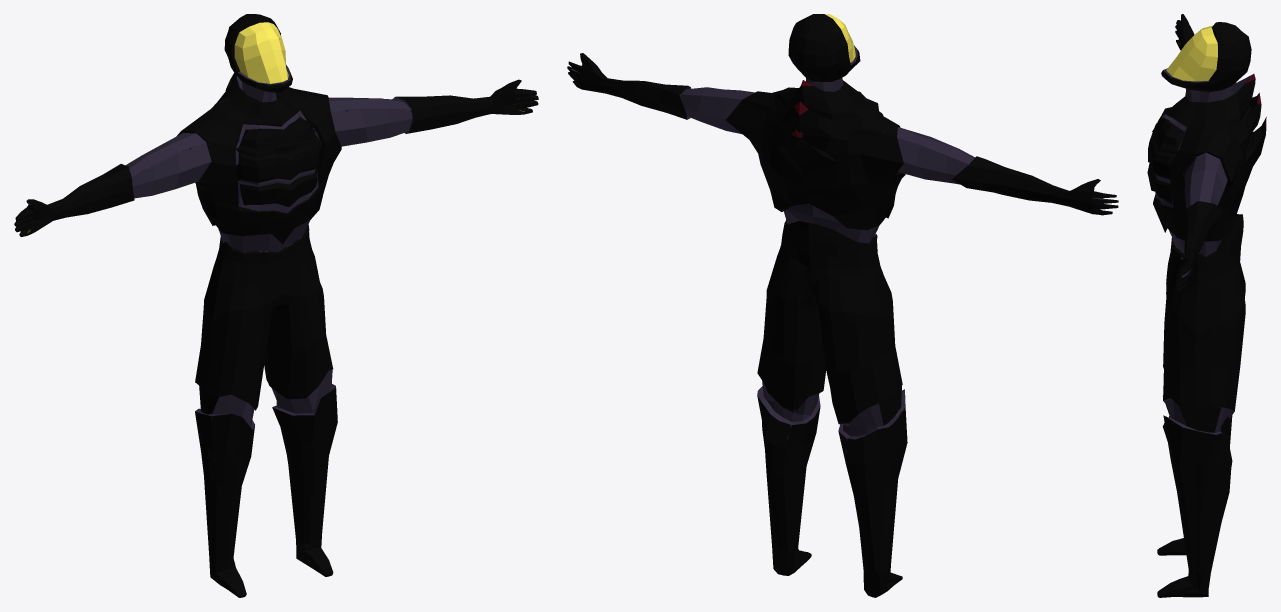
File: MainCharacter1_TEST.fbx
The picture shows the model from 3 angles, left to right: view 1: azimuth 30°, elevation 25°; view 2: azimuth 150°, elevation 25°; view 3: azimuth 270°, elevation 25°; orthographic projection. The views are drawn at different scales.
Visible parts, largest first — view 1: Roundcube.004; view 2: Roundcube.004; view 3: Roundcube.004.
Boxes of the visible parts, x1,y1,x2,y2 form: Roundcube.004: (14,14,538,597); Roundcube.004: (567,14,1118,597); Roundcube.004: (1147,14,1266,597).
Size of the model in its own units: 1788 by 351 by 1787.
